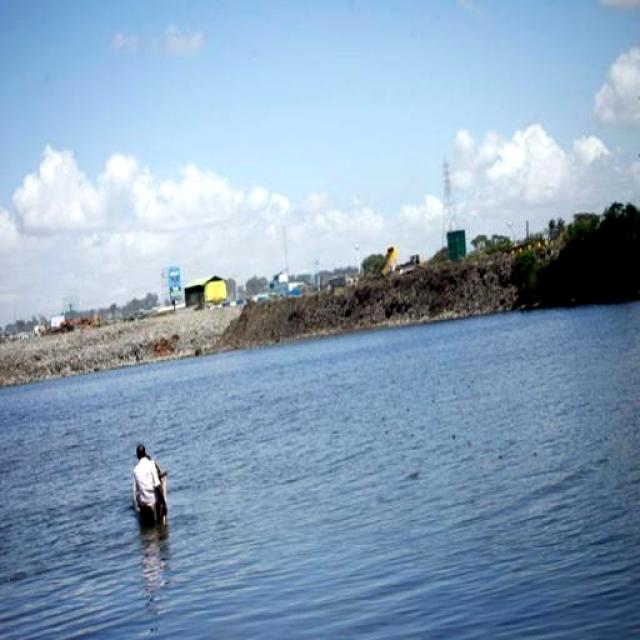civilian: (112, 439, 186, 553)
